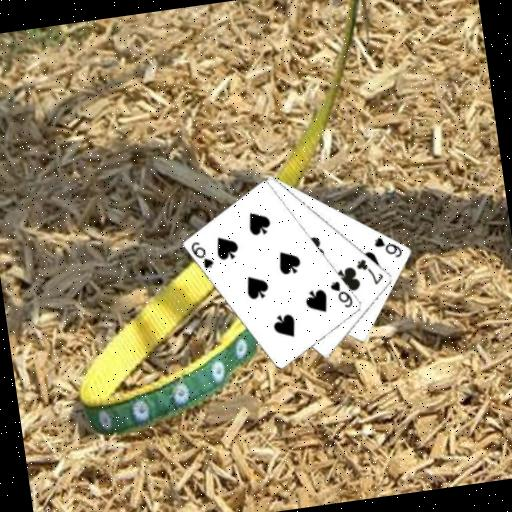6S: (370, 231, 405, 262), (188, 237, 217, 273), (326, 277, 355, 312)
7C: (352, 254, 386, 289)
